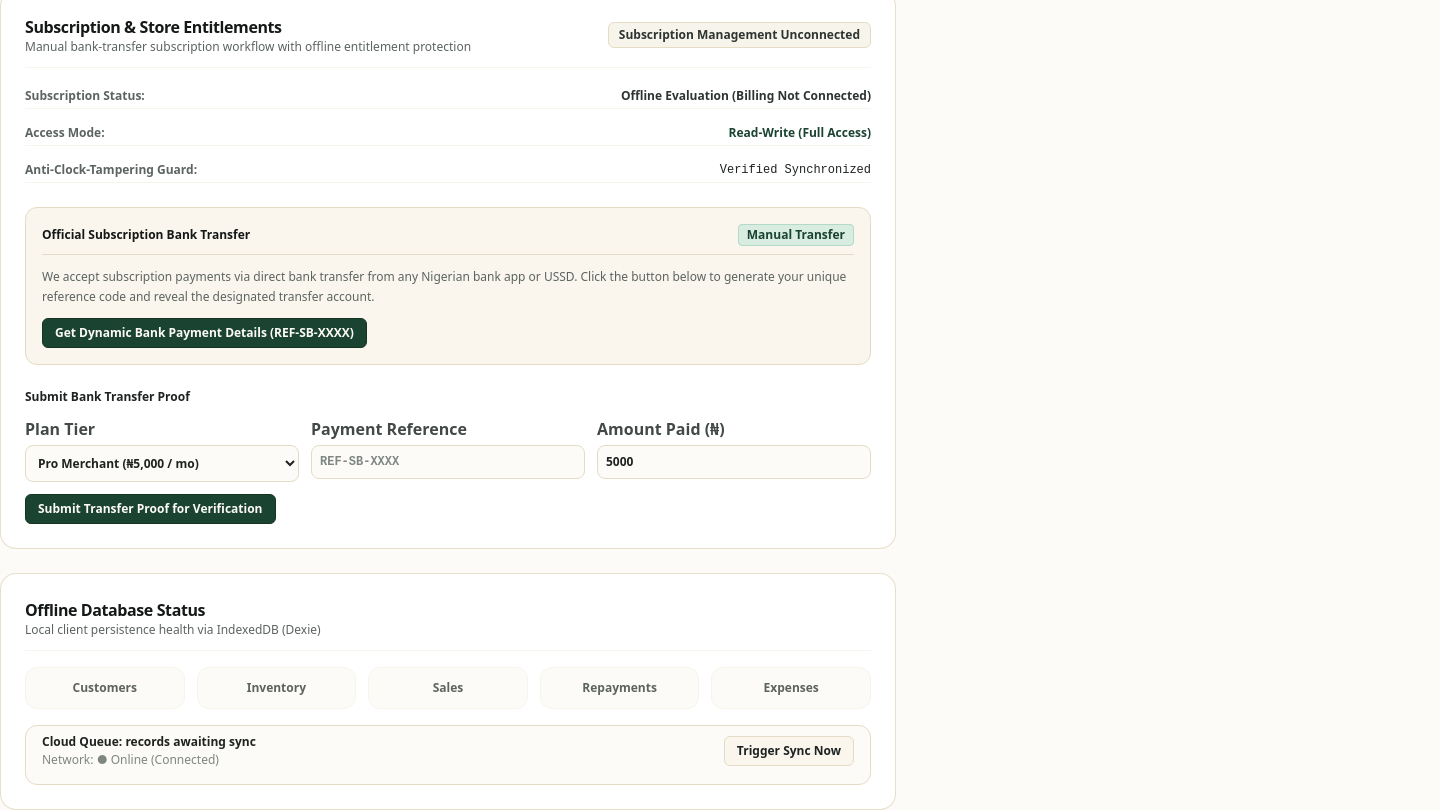
Test: MSME Ledger — FE-01R Remediation Test Suite › 5. P1 — Subscription UI & Honest Claims › Settings manual sync accurately reports when cloud synchronization is unavailable
(page scrolled)
Click the button "Trigger Sync Now". click: (789, 751)
box: x1=724 y1=736 x2=854 y2=766
(page scrolled)
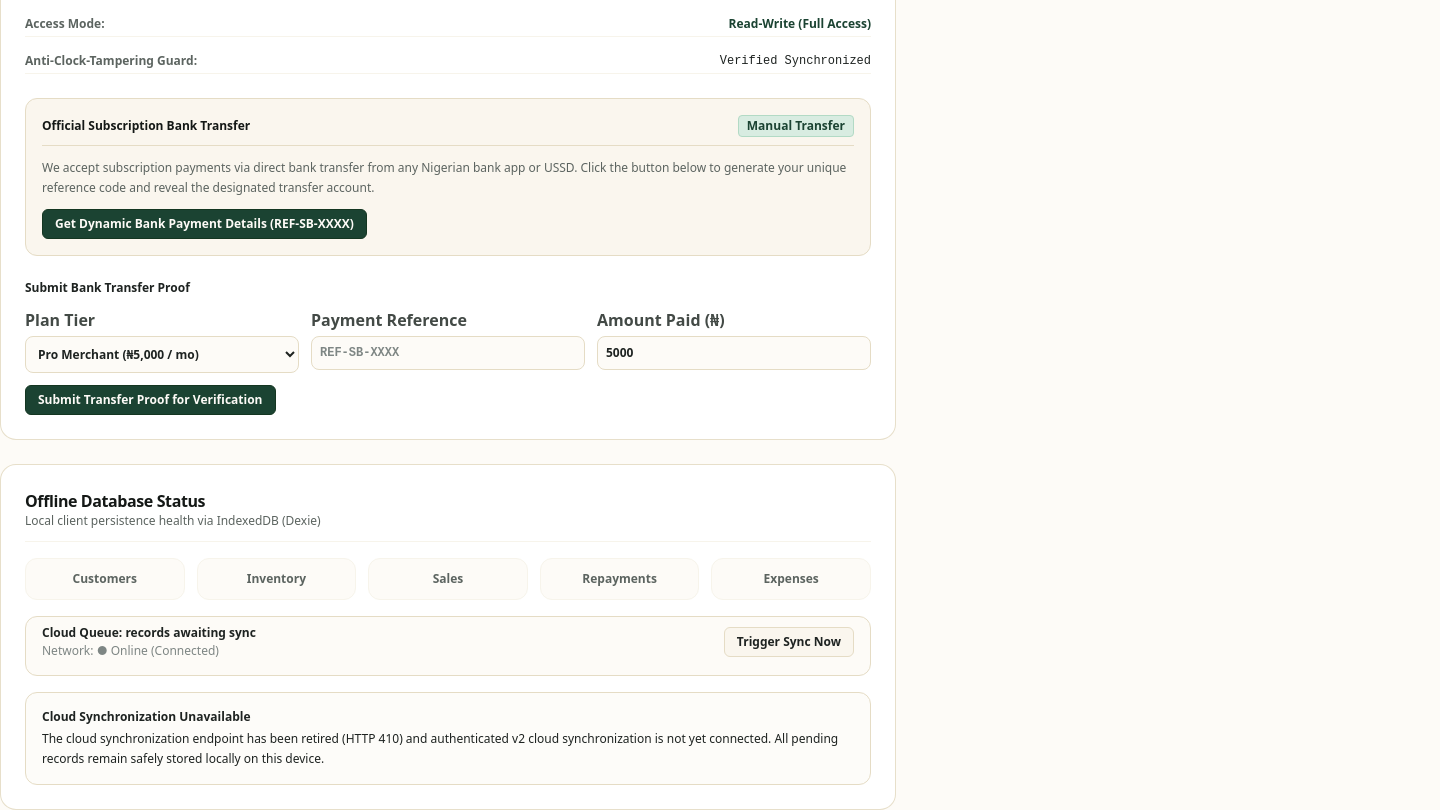
Now the text "Cloud Synchronization Unavailable" is shown, box x1=42 y1=708 x2=250 y2=725
Now the text "endpoint has been retired (HTTP 410)" is shown, box x1=42 y1=730 x2=838 y2=766
